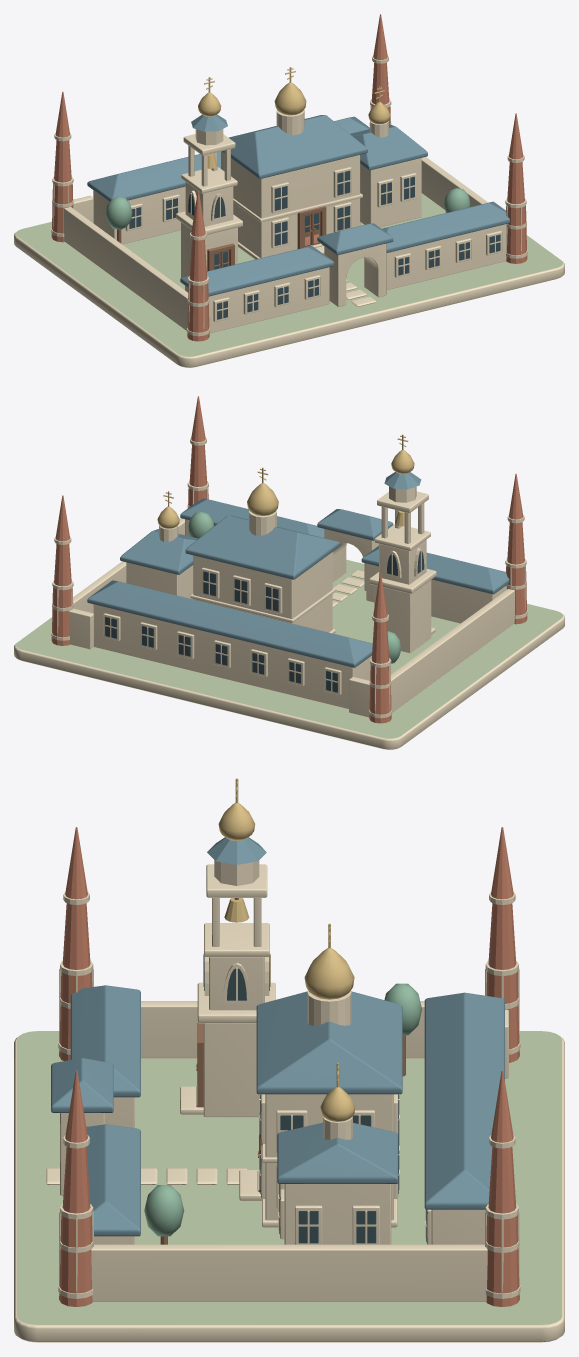
The model's file is staro-golutvin.glb.
3 views of the same model, one above another, from view 1: azimuth 30°, elevation 25°; view 2: azimuth 150°, elevation 25°; view 3: azimuth 270°, elevation 25° (orthographic). The views are drawn at different scales.
Parts seen in each view (by area): view 1: staro-golutvin · soft low-poly; view 2: staro-golutvin · soft low-poly; view 3: staro-golutvin · soft low-poly.
Part boxes in pixels (x1,y1,x2,y2): staro-golutvin · soft low-poly: (14,14,564,367); staro-golutvin · soft low-poly: (14,396,564,749); staro-golutvin · soft low-poly: (14,778,564,1342).
Size of the model in its own units: 8.4 by 4.53 by 6.6.
